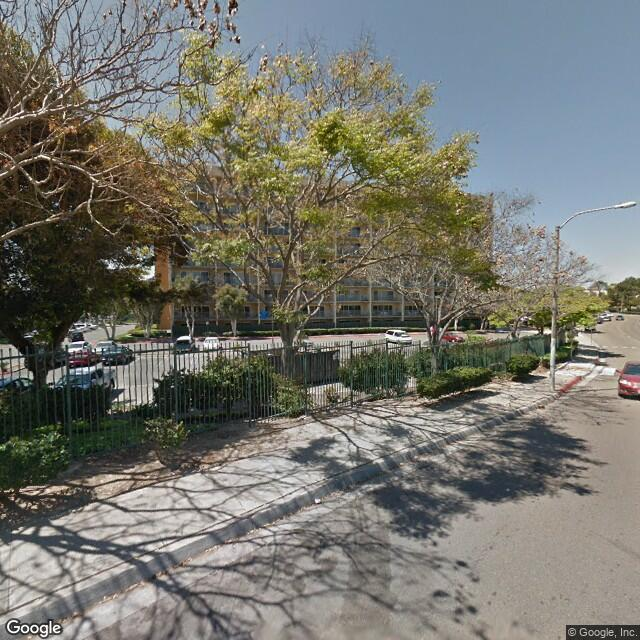litter: (310, 495, 320, 506)
